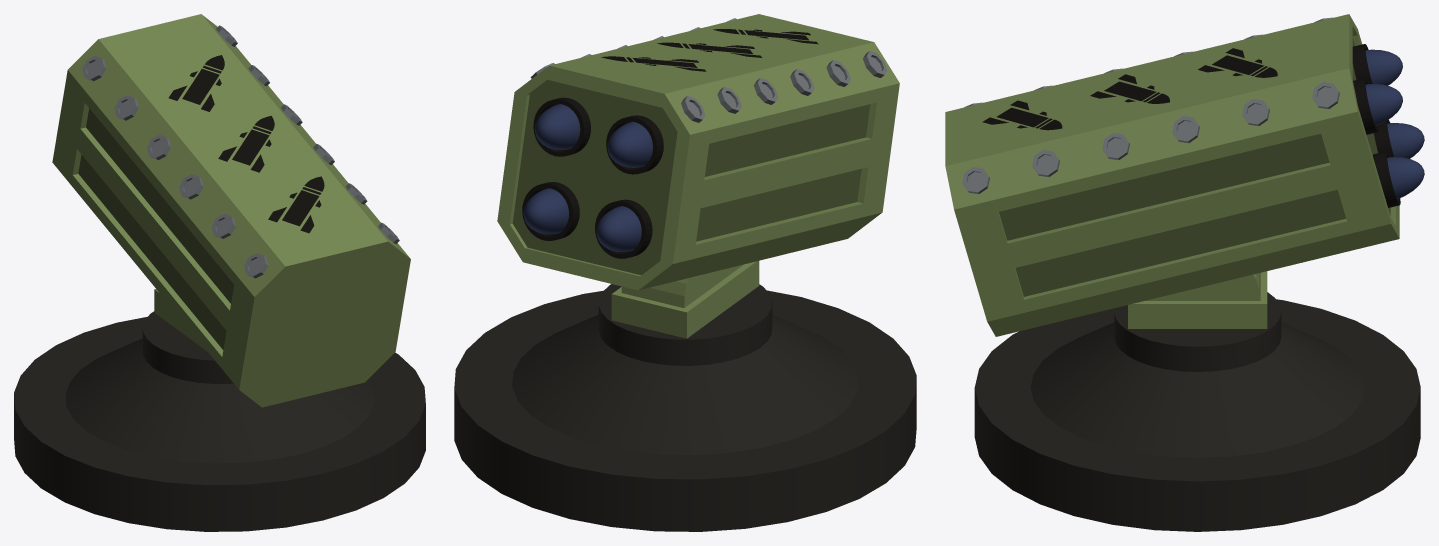
File: bomber_L2.fbx
The picture shows the model from 3 angles, left to right: view 1: azimuth 30°, elevation 25°; view 2: azimuth 150°, elevation 25°; view 3: azimuth 270°, elevation 25°; orthographic projection. The views are drawn at different scales.
Parts seen in each view (by area): view 1: Plane.001, Circle, Circle.002, Plane.004, Plane.003, Plane.002, Plane; view 2: Circle, Plane.001, Sphere.001, Circle.004, Plane, Circle.002, Cylinder, Plane.002, Plane.003, Plane.004; view 3: Plane.001, Circle, Sphere.001, Plane, Circle.002, Circle.004, Cylinder, Plane.003, Plane.004, Plane.002.
Part boxes in pixels (x1,y1,x2,y2): Plane.001: (52, 14, 410, 407); Circle: (14, 311, 425, 531); Circle.002: (82, 25, 399, 278); Plane.004: (268, 176, 324, 233); Plane.003: (218, 115, 274, 172); Plane.002: (168, 55, 224, 111); Plane: (154, 289, 207, 351); Circle: (454, 284, 916, 531); Plane.001: (497, 14, 899, 290); Sphere.001: (523, 104, 652, 251); Circle.004: (522, 97, 663, 258); Plane: (611, 261, 759, 338); Circle.002: (530, 18, 887, 122); Cylinder: (621, 264, 743, 307); Plane.002: (601, 56, 706, 71); Plane.003: (657, 42, 762, 57); Plane.004: (713, 29, 818, 44); Plane.001: (945, 14, 1399, 336); Circle: (974, 292, 1420, 531); Sphere.001: (1365, 49, 1424, 198); Plane: (1128, 271, 1267, 328); Circle.002: (962, 17, 1339, 193); Circle.004: (1352, 44, 1400, 207); Cylinder: (1145, 273, 1260, 300); Plane.003: (1090, 74, 1169, 103); Plane.004: (982, 100, 1062, 130); Plane.002: (1198, 48, 1277, 77).
Bounding box in the file's own units: 160 × 157 × 172.
